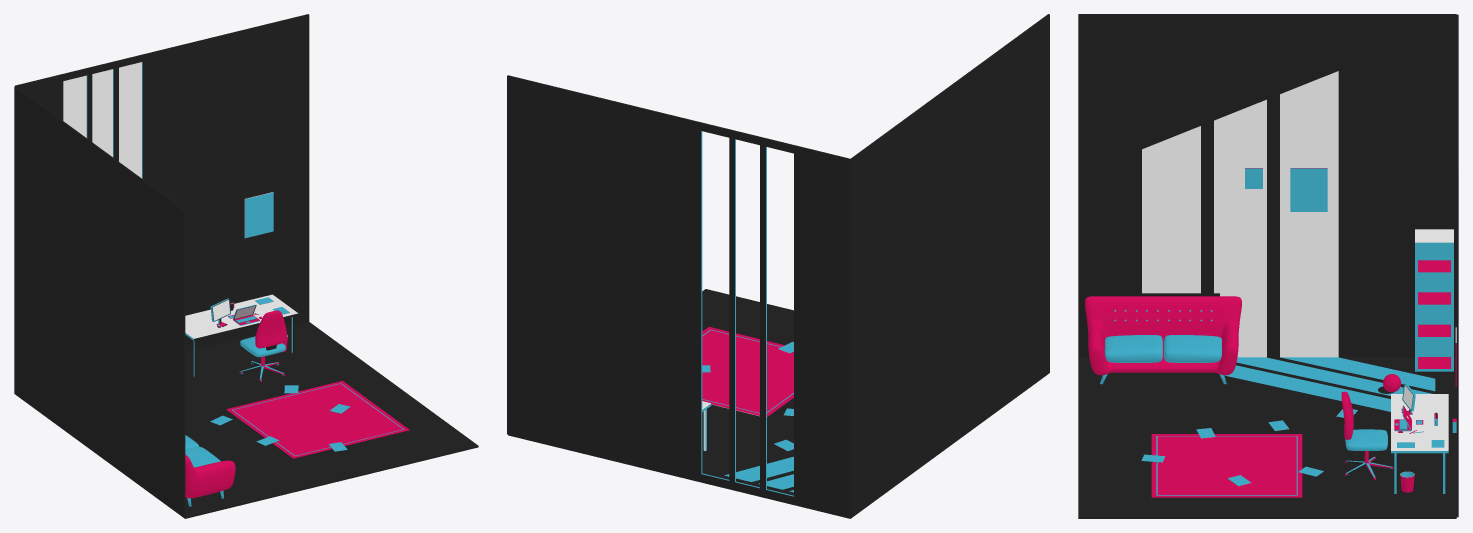
File: room.gltf
3 renders of one model, left to right at view 1: azimuth 30°, elevation 25°; view 2: azimuth 150°, elevation 25°; view 3: azimuth 270°, elevation 25°, orthographic. The views are drawn at different scales.
Parts seen in each view (by area): view 1: Cube.004, Cube, Cube.012, Plane, Circle, Plane.003, Plane.008; view 2: Cube.004, Cube; view 3: Cube.004, Cube.012, Cube, Cube.011, Plane, Plane.003, Circle, Plane.008.
Boxes of the visible parts, x1,y1,x2,y2 form: Cube.004: [14, 14, 478, 518]; Cube: [226, 380, 410, 458]; Cube.012: [185, 435, 235, 506]; Plane: [185, 294, 298, 340]; Circle: [239, 310, 286, 381]; Plane.003: [244, 192, 273, 238]; Plane.008: [210, 385, 350, 451]; Cube.004: [507, 14, 1049, 518]; Cube: [702, 327, 793, 417]; Cube.004: [1078, 14, 1458, 518]; Cube.012: [1085, 296, 1241, 384]; Cube: [1151, 434, 1302, 497]; Cube.011: [1415, 229, 1453, 371]; Plane: [1391, 394, 1448, 453]; Plane.003: [1245, 168, 1456, 386]; Circle: [1341, 391, 1393, 480]; Plane.008: [1141, 409, 1357, 486].
Bounding box in the file's own units: 201 × 201 × 201.
1 material, 1 textured.
